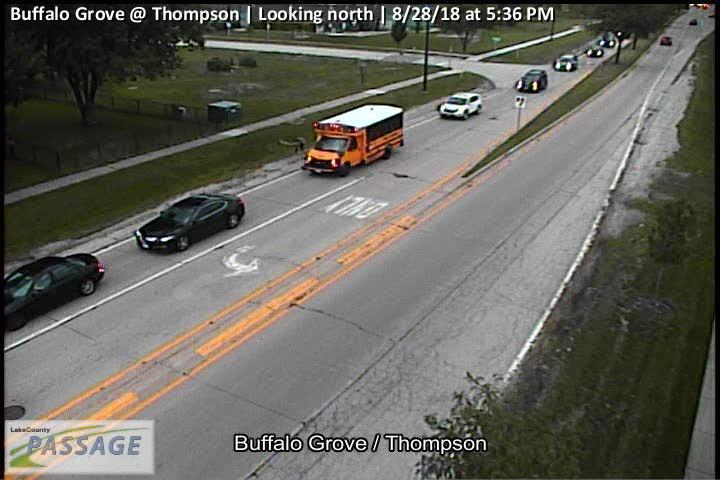Bus: (300, 101, 405, 176)
Sedan: (3, 254, 105, 334), (134, 193, 245, 254), (438, 91, 482, 119), (515, 69, 547, 93), (554, 53, 578, 71), (587, 47, 603, 57), (599, 37, 615, 46), (660, 36, 671, 45), (688, 18, 696, 24)
